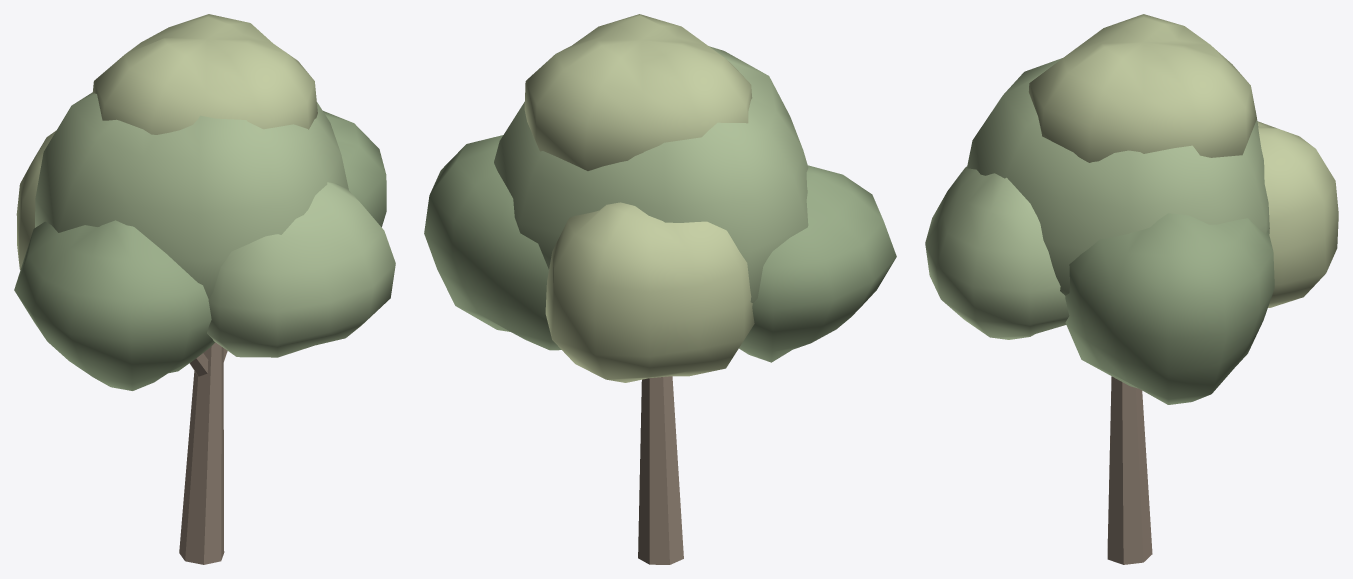
The model's file is tree_canopy.glb.
The picture shows the model from 3 angles, left to right: view 1: azimuth 30°, elevation 25°; view 2: azimuth 150°, elevation 25°; view 3: azimuth 270°, elevation 25°; orthographic projection. The views are drawn at different scales.
Parts seen in each view (by area): view 1: tree_canopy; view 2: tree_canopy; view 3: tree_canopy.
Part boxes in pixels (x1=…): tree_canopy: x1=14, y1=14, x2=395, y2=564; tree_canopy: x1=424, y1=14, x2=896, y2=564; tree_canopy: x1=925, y1=14, x2=1338, y2=564.
Bounding box in the file's own units: 4.62 × 5.87 × 4.2.
